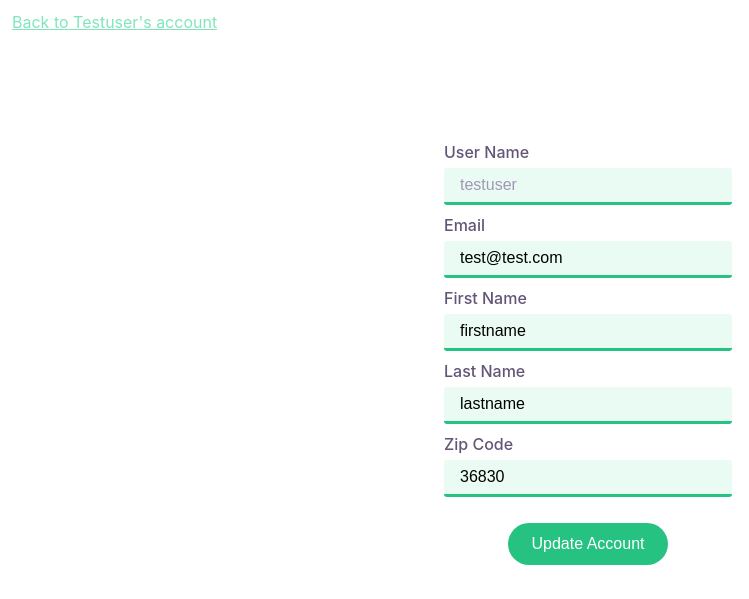
User component tests › gives error if invalid input
Clear the 4th field showing "lastname" at [588, 406], box [444,387,732,424]
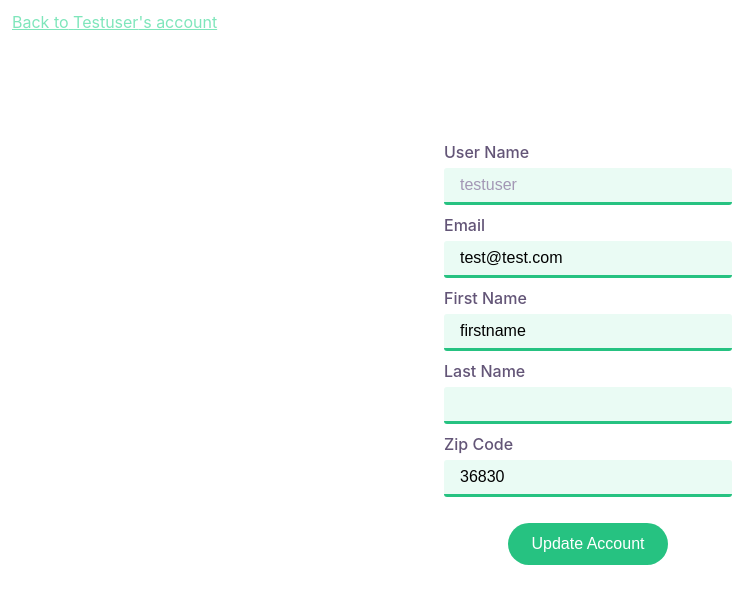
Click the button.
click(588, 544)  # box [508,523,668,565]
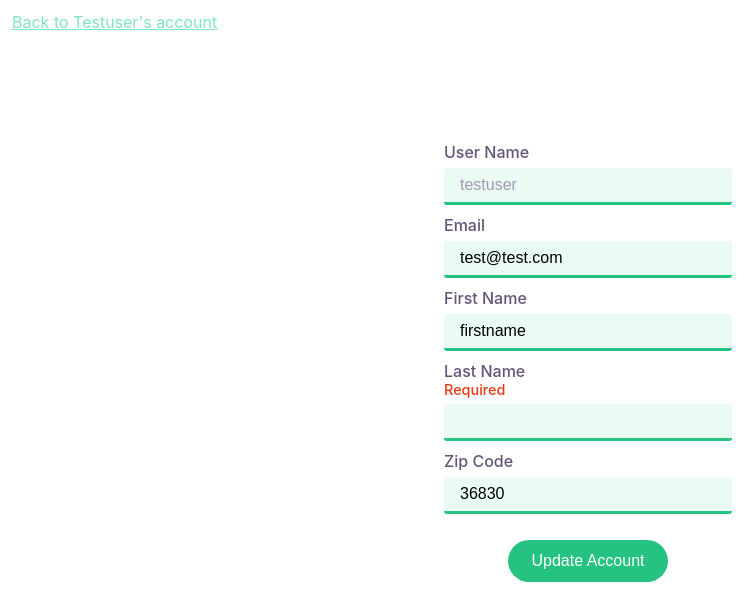
Expected: the text "Required" is shown once, [444,381,505,398]
